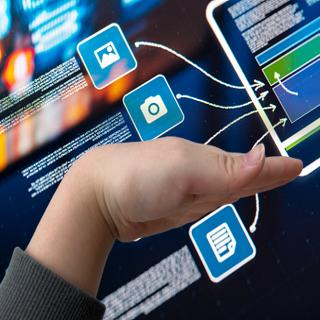Wait: (32, 126, 309, 281)
